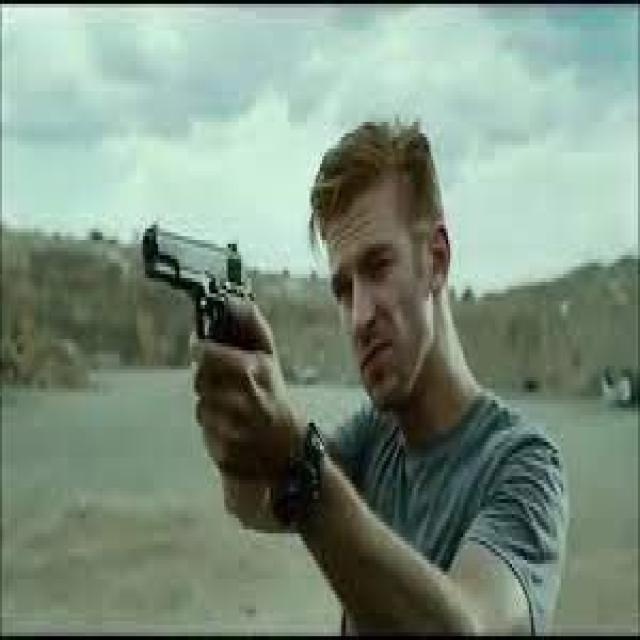weapons: (104, 156, 270, 424)
